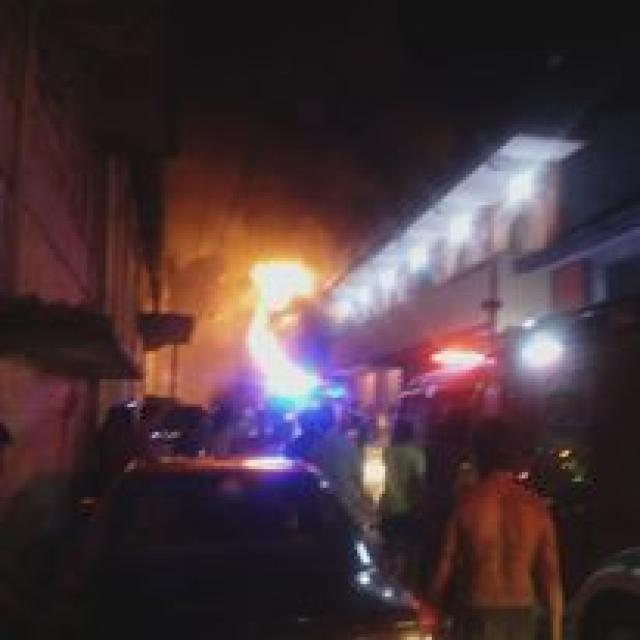Fire: (250, 244, 323, 332)
